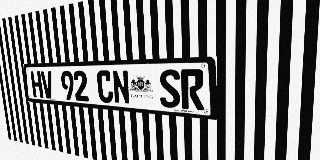2: (73, 70, 89, 101)
9: (60, 71, 75, 100)
C: (96, 70, 114, 103)
H: (30, 71, 43, 98)
N: (112, 70, 130, 105)
R: (180, 69, 204, 110)
S: (159, 69, 181, 109)
V: (40, 71, 54, 99)
